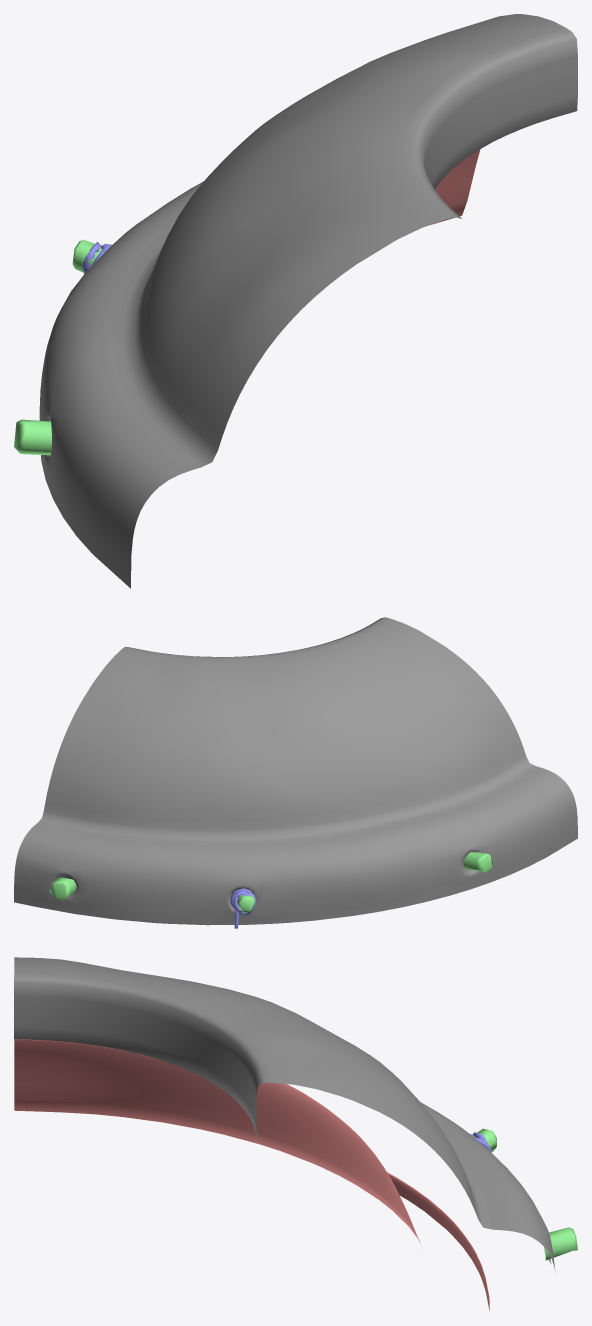
The model's file is SM_Building_Umbar_Roof_Round_A.gltf.
The picture shows the model from 3 angles, top to bottom: view 1: azimuth 30°, elevation 25°; view 2: azimuth 150°, elevation 25°; view 3: azimuth 270°, elevation 25°; orthographic projection. The views are drawn at different scales.
Visible parts, largest first — view 1: SM_Building_Umbar_Roof_Round_A; view 2: SM_Building_Umbar_Roof_Round_A; view 3: SM_Building_Umbar_Roof_Round_A.
Boxes of the visible parts, x1,y1,x2,y2 form: SM_Building_Umbar_Roof_Round_A: [14, 14, 577, 588]; SM_Building_Umbar_Roof_Round_A: [14, 617, 577, 928]; SM_Building_Umbar_Roof_Round_A: [14, 957, 577, 1310].
Size of the model in its own units: 4 by 1.86 by 4.16.
